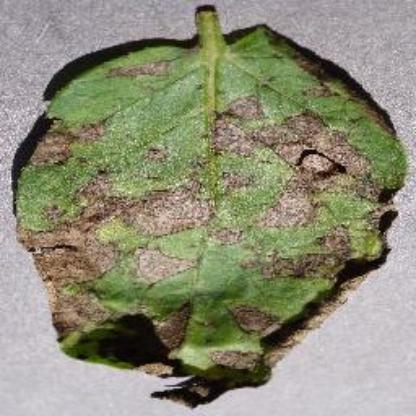Early-Blight: (11, 4, 408, 406)
